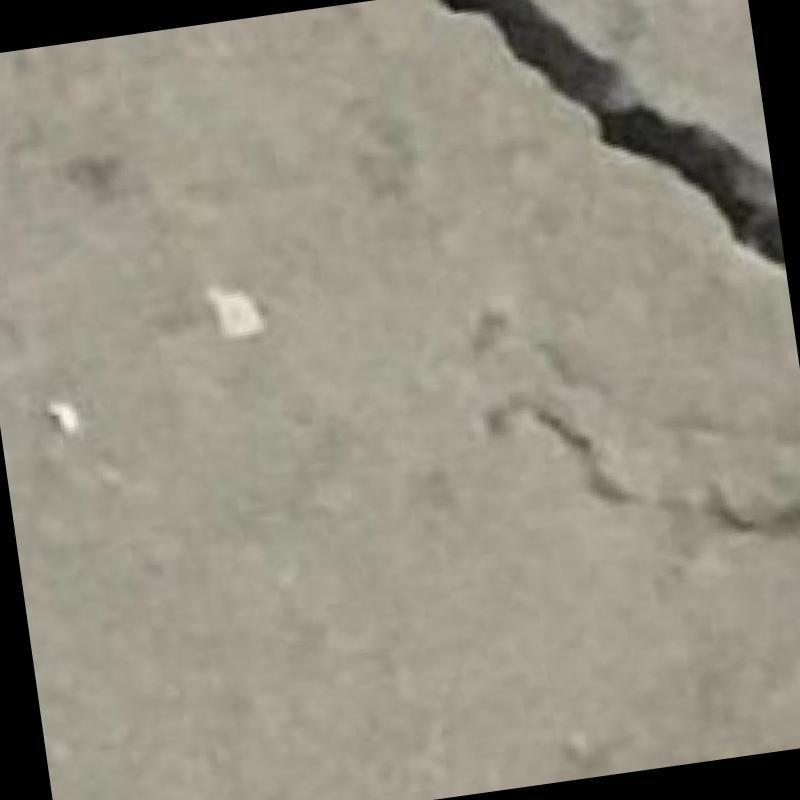pothole: (441, 0, 783, 263)
